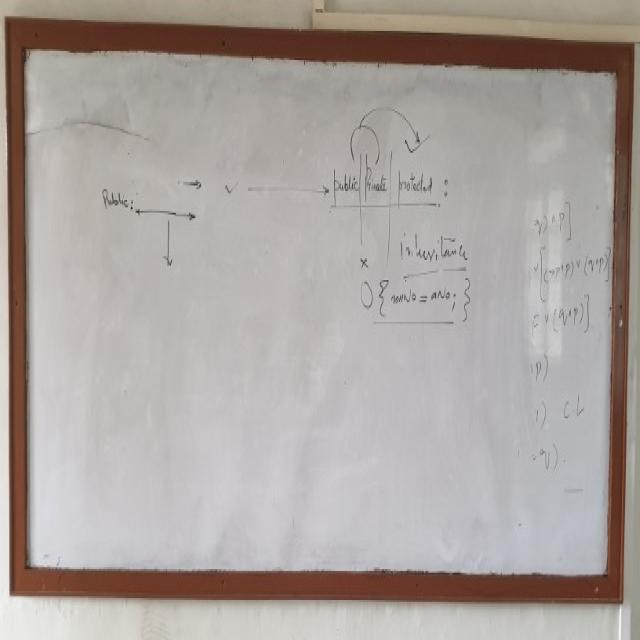White-board: (16, 30, 624, 589)
